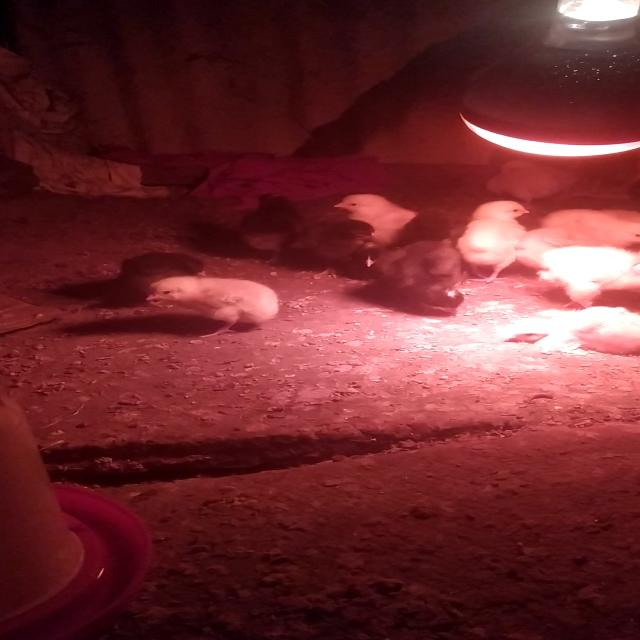chick: (138, 275, 282, 337), (501, 306, 640, 357), (513, 228, 638, 281), (534, 246, 640, 308), (374, 240, 463, 313), (455, 200, 532, 282), (335, 190, 425, 260), (241, 191, 313, 265), (119, 252, 208, 308), (310, 218, 386, 278), (537, 208, 640, 251), (393, 206, 464, 262), (486, 161, 582, 202)
